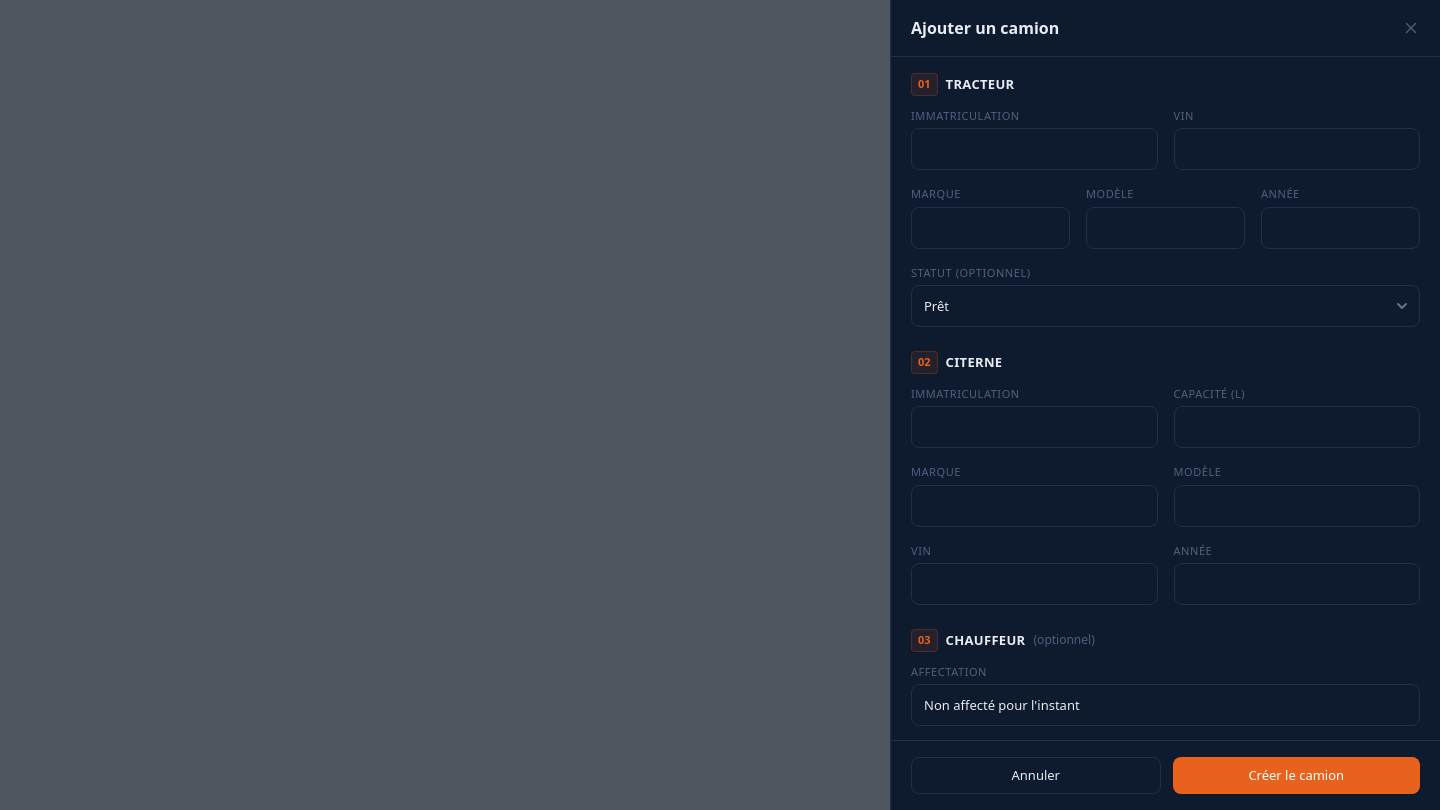
AddTruckDrawer › when open › validation › shows required errors when submitting an empty form
Click the button "Créer le camion" at coordinates (1296, 775), box 1172,756 -> 1420,794
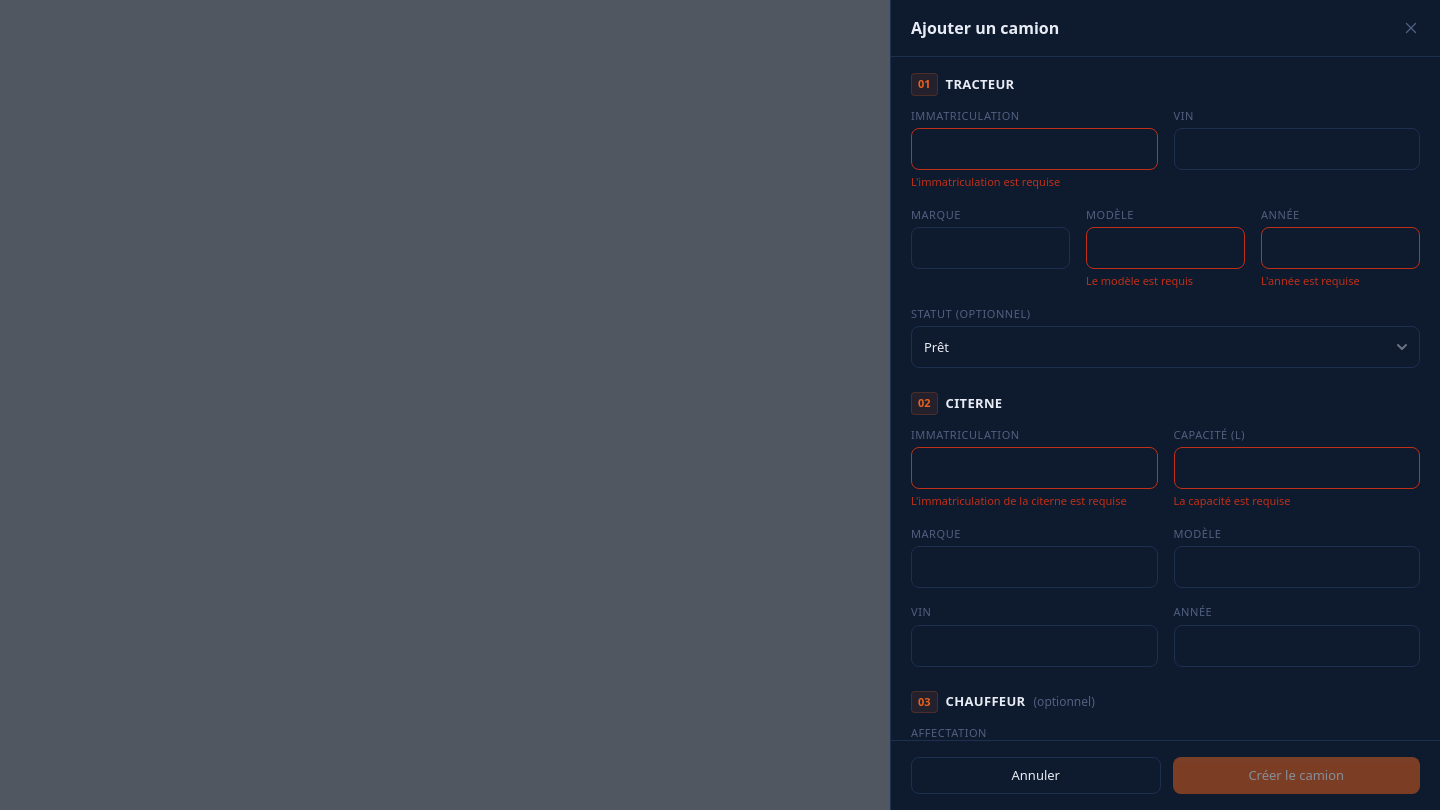
Check: the text "L'immatriculation est requise" is shown, box 911,174 -> 1060,189
Check: the text "Le modèle est requis" is shown, box 1086,273 -> 1193,288
Check: the text "L'année est requise" is shown, box 1261,273 -> 1360,288
